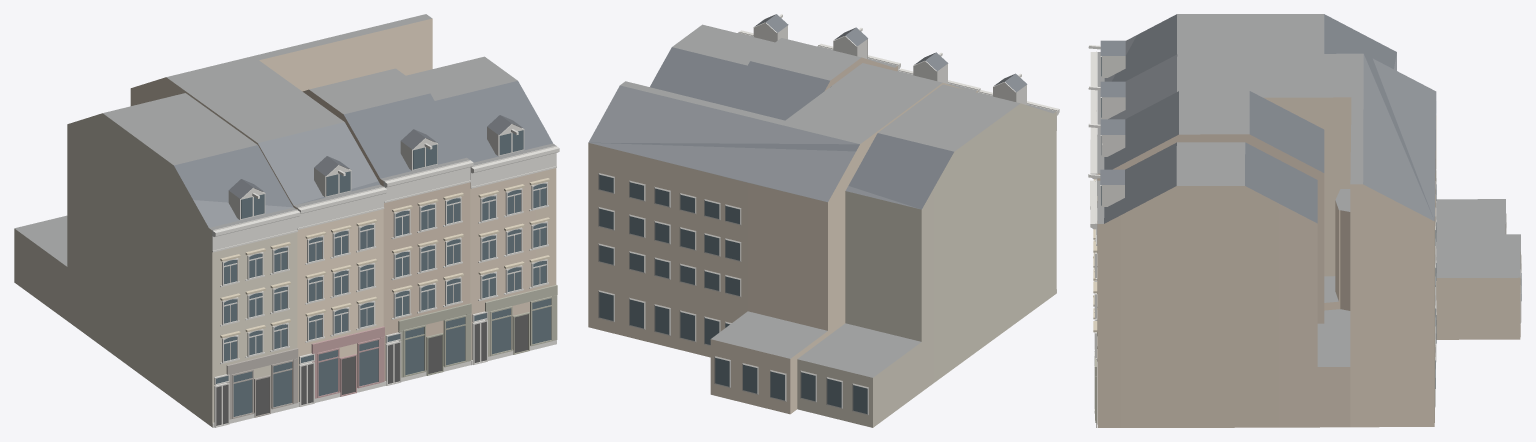
File: chunk-face-bol-40-54-r2.glb
3 renders of one model, left to right at view 1: azimuth 30°, elevation 25°; view 2: azimuth 150°, elevation 25°; view 3: azimuth 270°, elevation 25°, orthographic. The views are drawn at different scales.
Visible parts, largest first — view 1: face-bol-40-54-r2; view 2: face-bol-40-54-r2; view 3: face-bol-40-54-r2.
Boxes of the visible parts, <box> form: face-bol-40-54-r2: <box>14,14,559,427</box>; face-bol-40-54-r2: <box>588,14,1059,427</box>; face-bol-40-54-r2: <box>1088,14,1521,427</box>.
Bounding box in the file's own units: 23.48 × 15.8 × 24.85.
